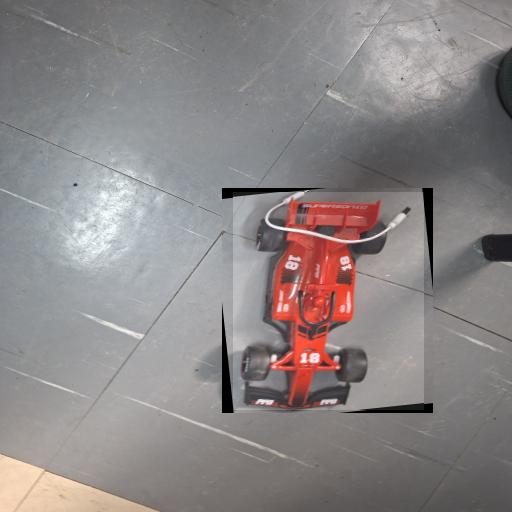carro: (233, 192, 424, 410)
